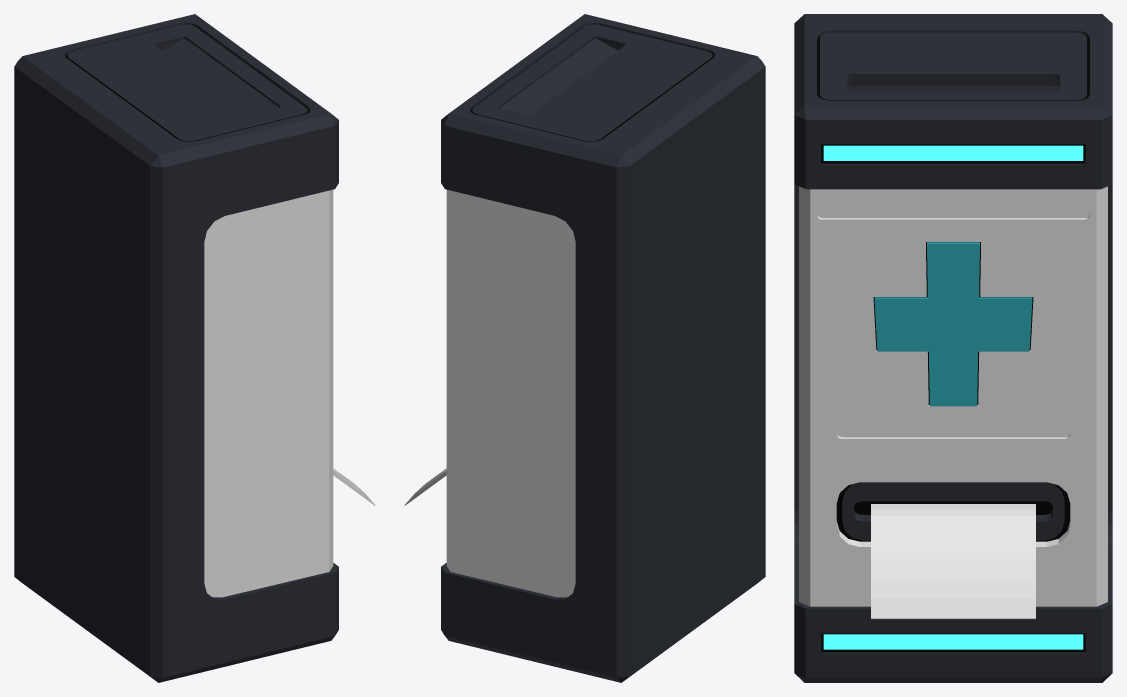
Rendered from SM_Sterile_Wipe_Dispenser.fbx.
3 views of the same model, side by side, from view 1: azimuth 30°, elevation 25°; view 2: azimuth 150°, elevation 25°; view 3: azimuth 270°, elevation 25° (orthographic). The views are drawn at different scales.
Parts seen in each view (by area): view 1: SM_Sterile_Wipe_Dispenser; view 2: SM_Sterile_Wipe_Dispenser; view 3: SM_Sterile_Wipe_Dispenser.
Part boxes in pixels (x1,y1,x2,y2): SM_Sterile_Wipe_Dispenser: (14,14,375,682); SM_Sterile_Wipe_Dispenser: (404,14,765,682); SM_Sterile_Wipe_Dispenser: (794,14,1112,682).
Bounding box in the file's own units: 20.28 × 40 × 20.
